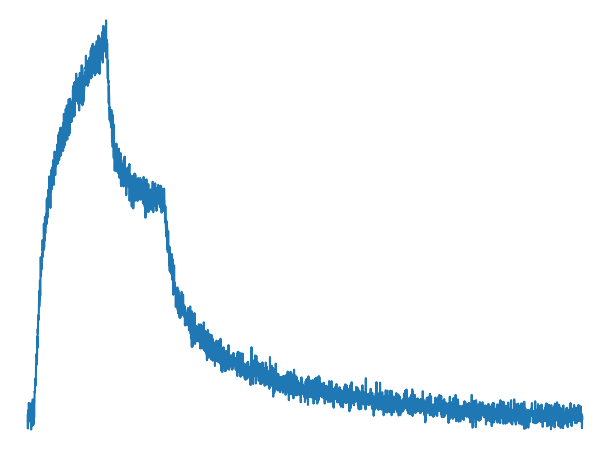decrease: (149, 171, 174, 228), (96, 14, 114, 85)
